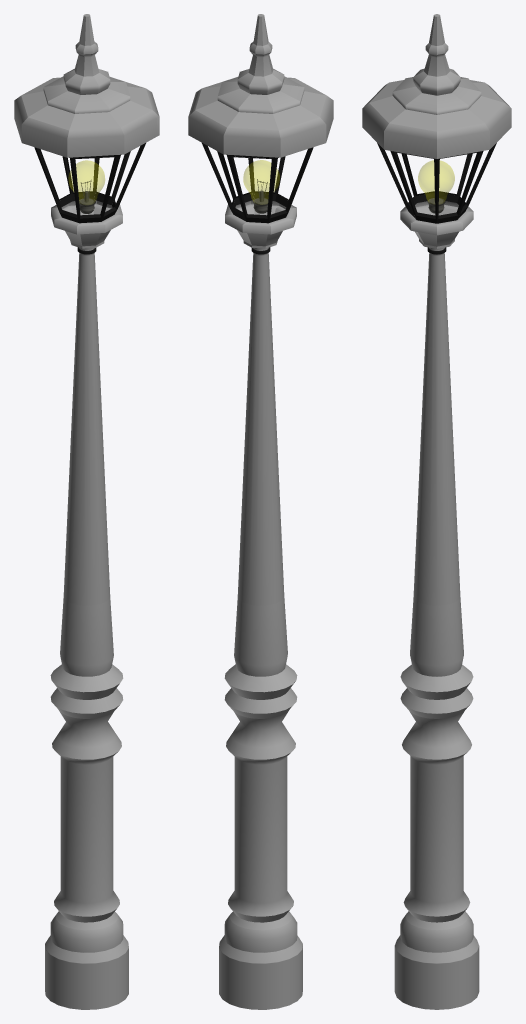
File: Laterne1+Birne.fbx
The picture shows the model from 3 angles, left to right: view 1: azimuth 30°, elevation 25°; view 2: azimuth 150°, elevation 25°; view 3: azimuth 270°, elevation 25°; orthographic projection.
Parts seen in each view (by area): view 1: pCylinder4; view 2: pCylinder4; view 3: pCylinder4.
Part boxes in pixels (bbox=[...]): pCylinder4: bbox=[14, 14, 159, 1009]; pCylinder4: bbox=[188, 14, 333, 1009]; pCylinder4: bbox=[362, 14, 511, 1009].
Bounding box in the file's own units: 122 × 873 × 121.
